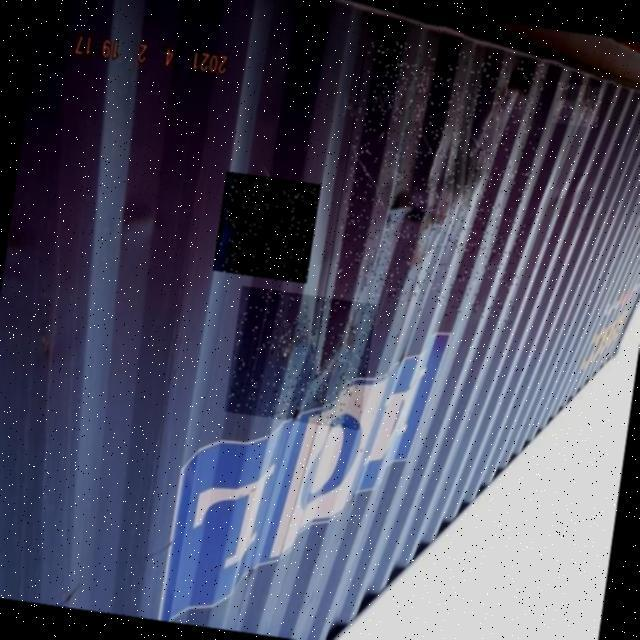Dent: (331, 38, 549, 325), (225, 286, 377, 431)
Minor-Dent: (213, 171, 321, 283), (552, 82, 603, 129)
